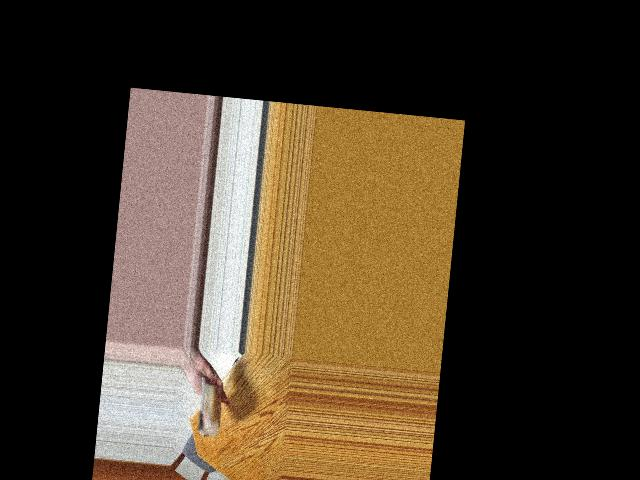cheese: (186, 379, 226, 433)
